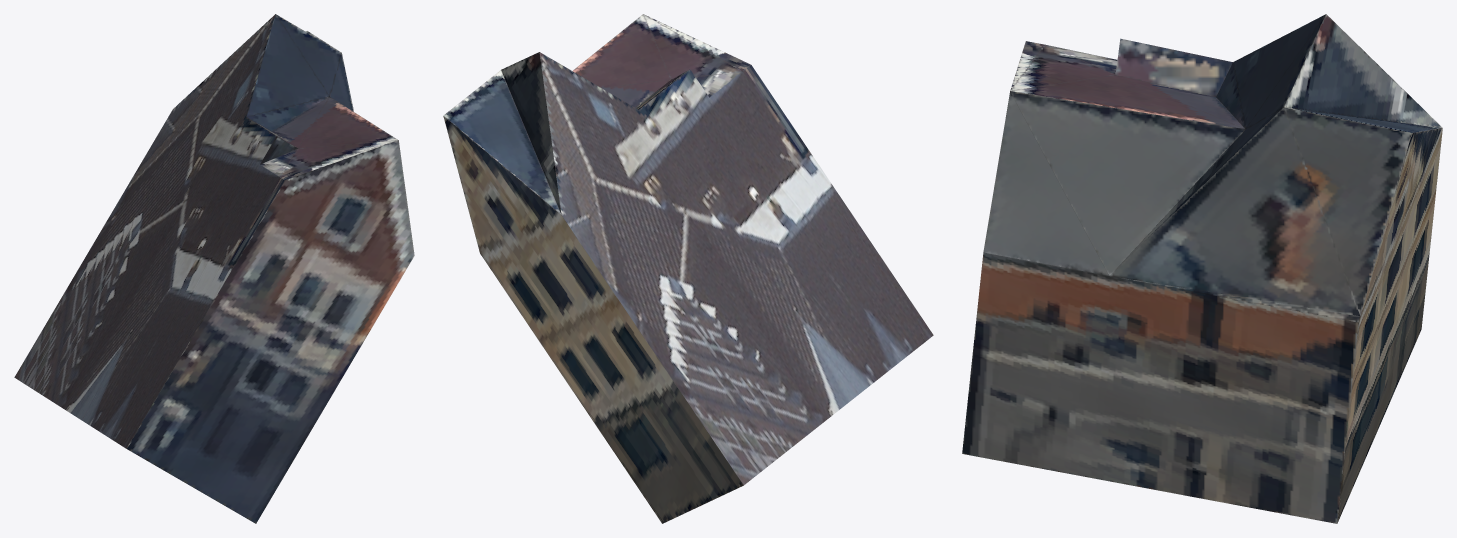
3 views of the same model, side by side, from view 1: azimuth 30°, elevation 25°; view 2: azimuth 150°, elevation 25°; view 3: azimuth 270°, elevation 25° (orthographic). The views are drawn at different scales.
Parts seen in each view (by area): view 1: BAG_0599100000760482 (×2); view 2: BAG_0599100000760482 (×2); view 3: BAG_0599100000760482 (×2).
Part boxes in pixels (box(x1,y1,x2,y2)): BAG_0599100000760482 (×2): box(14, 14, 414, 523); BAG_0599100000760482 (×2): box(443, 14, 933, 523); BAG_0599100000760482 (×2): box(962, 14, 1442, 523).
Size of the model in its own units: 14.81 by 18.22 by 13.36.
Materials: 1 (1 with a texture image).
